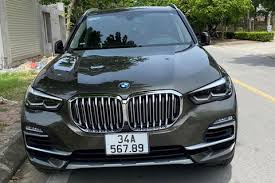number-plate: (105, 134, 147, 153)
